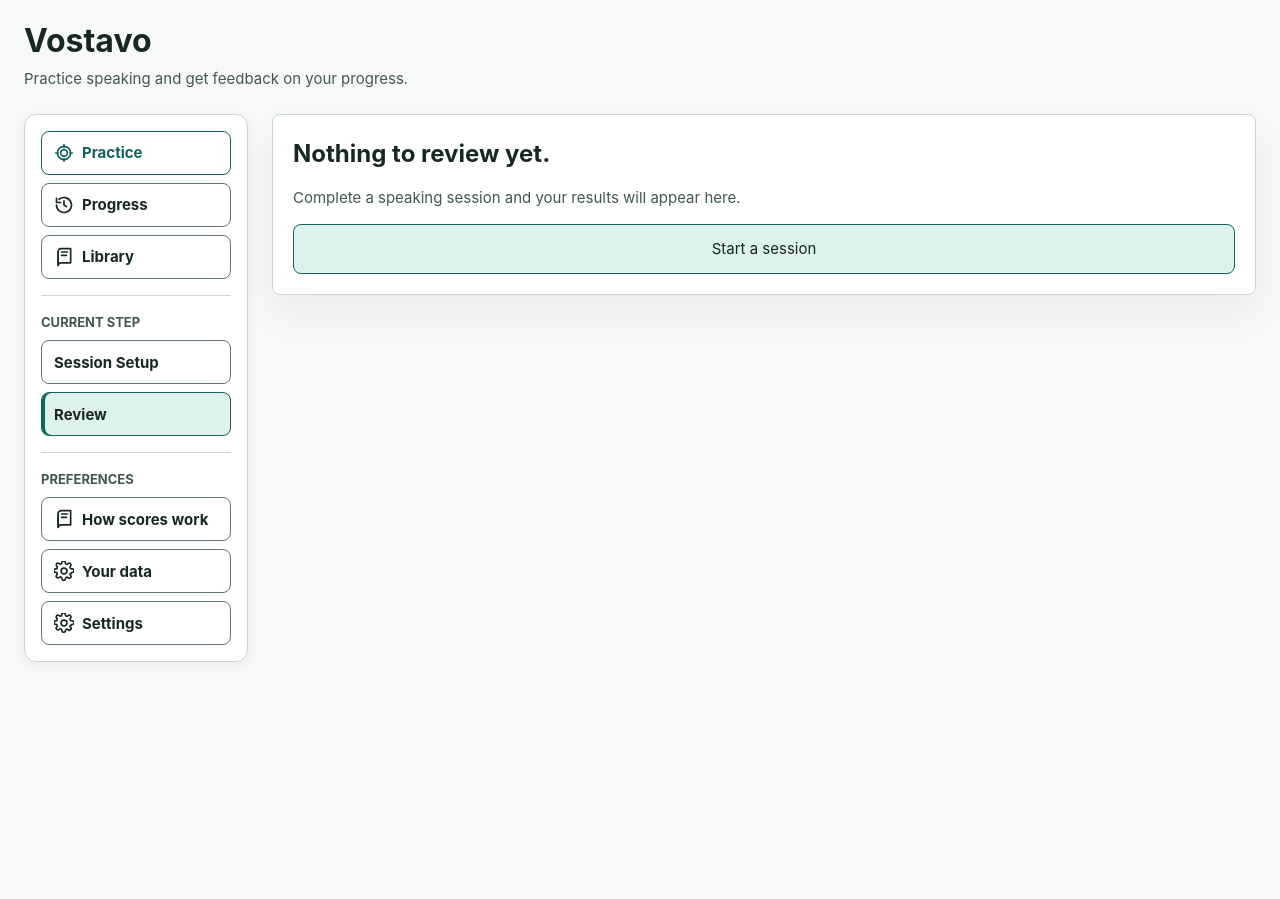
Scenario: Settings route › returns to Review after opening Settings from the navigation
This screenshot has width=1280, height=899.
Check: the element with test id "review-guard-missing-review" is shown, box [272, 114, 1256, 294]
Click the link with test id "home.open_settings" at (136, 623), box [41, 601, 231, 645]
(page scrolled)
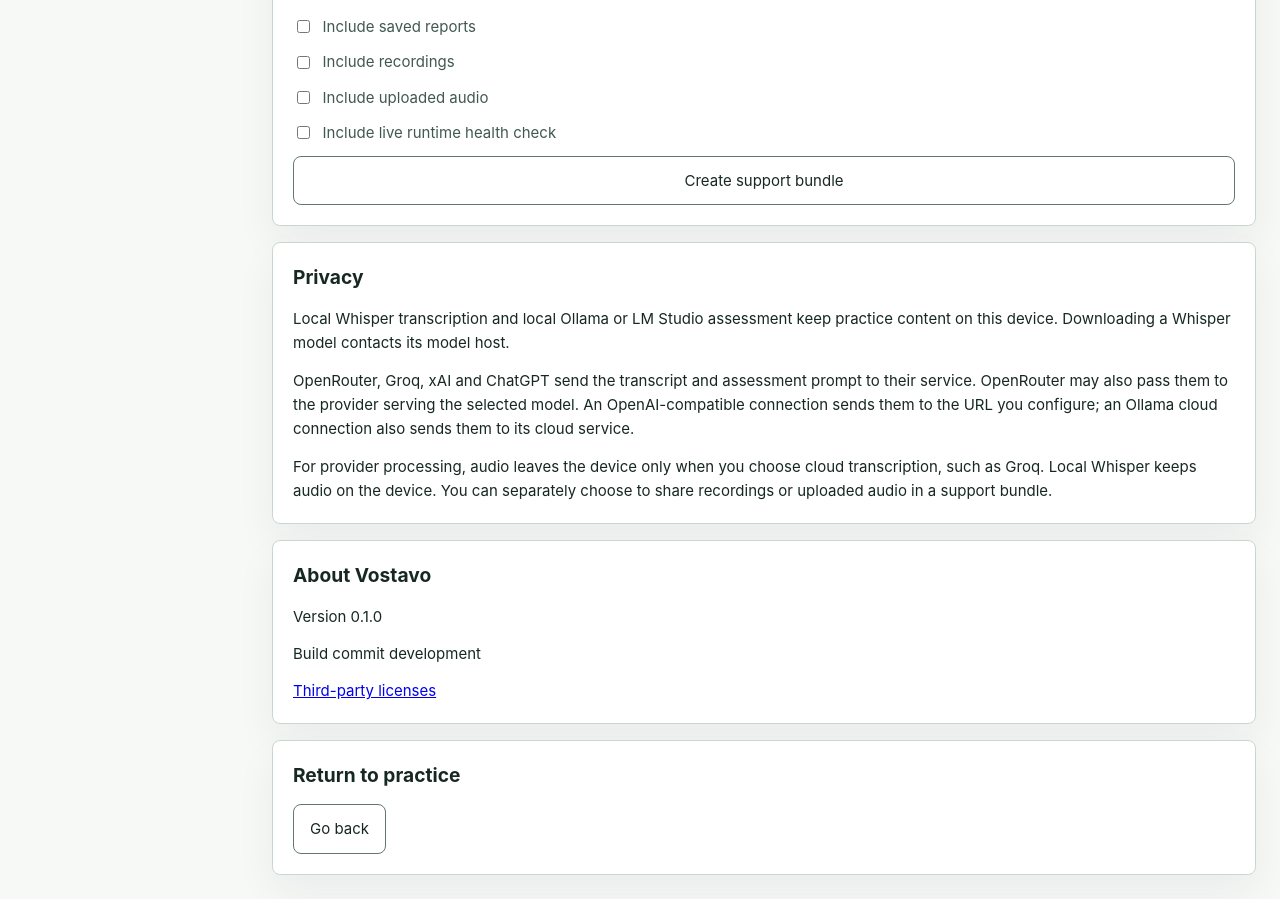
Click the button with test id "settings.return" at (340, 829), box [293, 804, 386, 854]
(page scrolled)
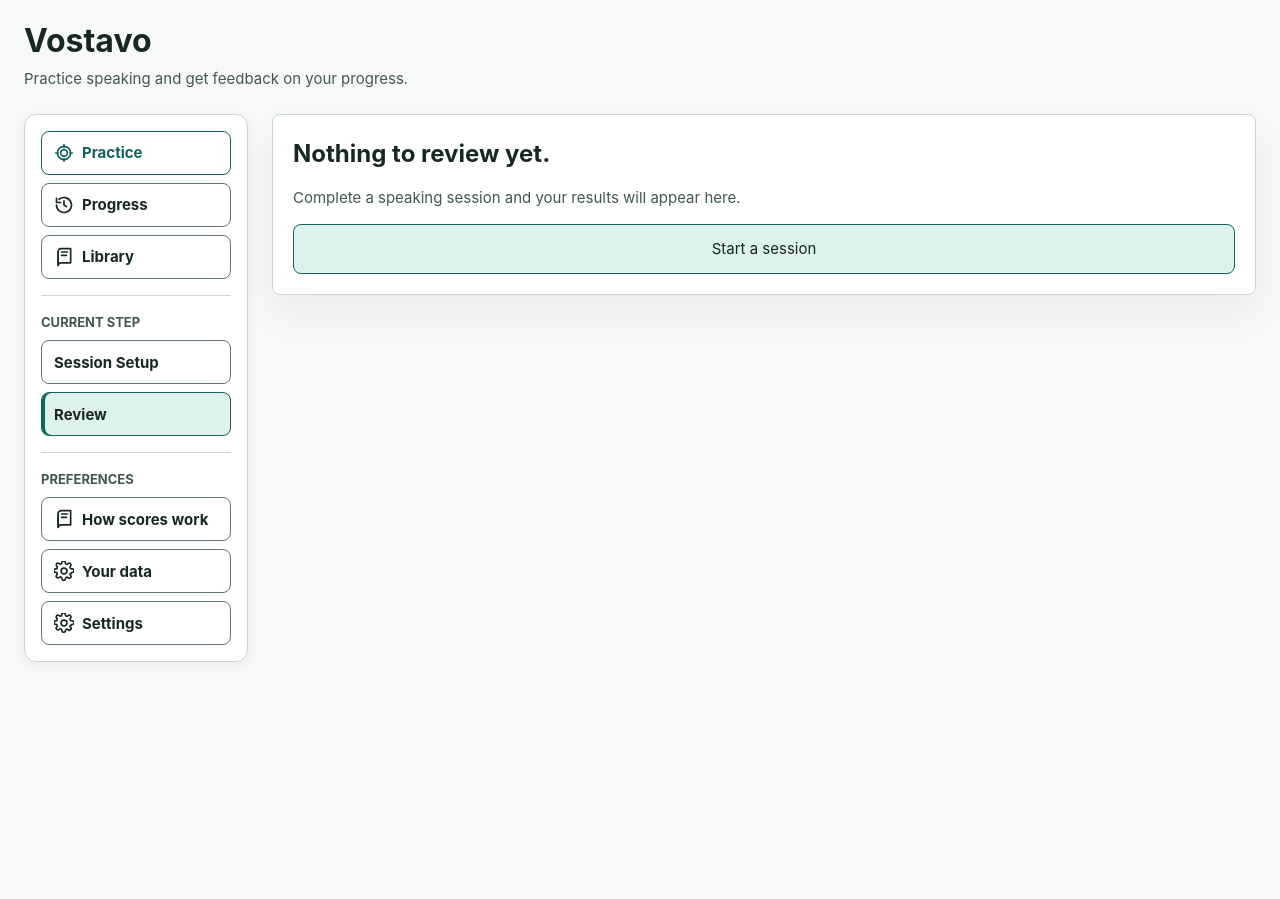
Check: the element with test id "review-guard-missing-review" is shown, box [272, 114, 1256, 294]
